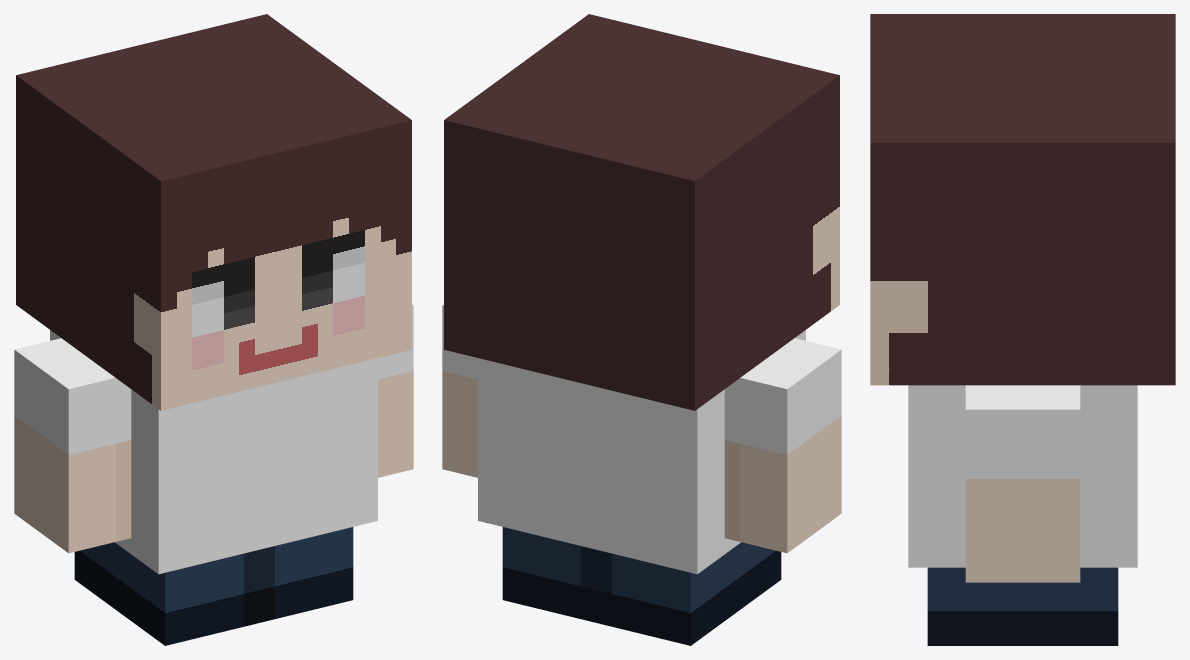
Rendered from boy.obj.
The picture shows the model from 3 angles, left to right: view 1: azimuth 30°, elevation 25°; view 2: azimuth 150°, elevation 25°; view 3: azimuth 270°, elevation 25°; orthographic projection. The views are drawn at different scales.
Visible parts, largest first — view 1: cube; view 2: cube; view 3: cube.
Boxes of the visible parts, box(x1,y1,x2,y2) form: cube: box(14, 14, 413, 645); cube: box(442, 14, 841, 645); cube: box(870, 14, 1175, 645).
Size of the model in its own units: 1.38 by 1.88 by 1.
